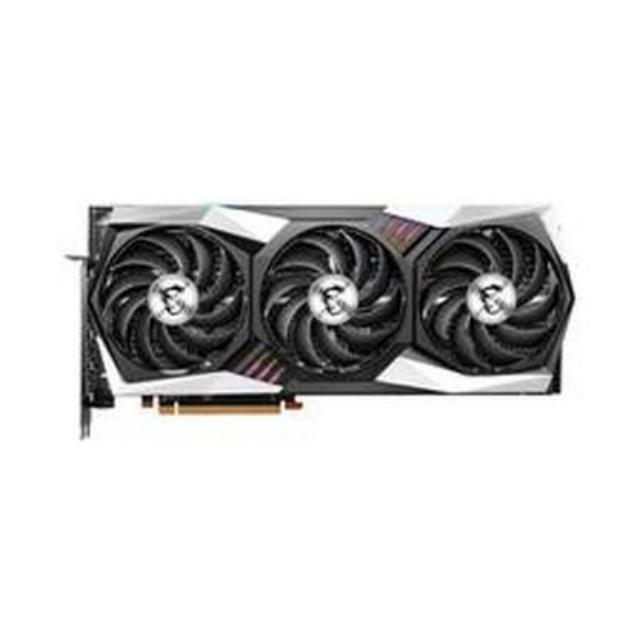GPU: (80, 198, 572, 430)
